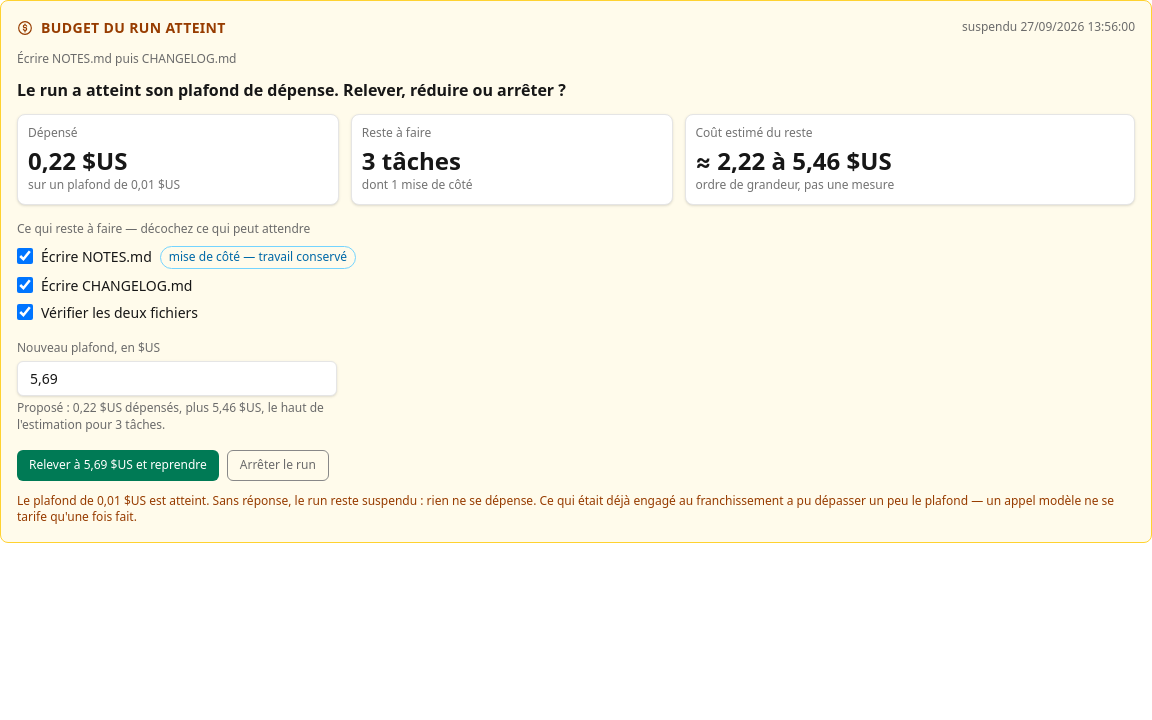
Test case: les trois gestes › tout décocher ne laisse que l'arrêt
The image size is (1152, 720).
Click the checkbox labelled "Écrire NOTES.md mise de côté — travail conservé": (25, 256) [17, 248, 33, 264]
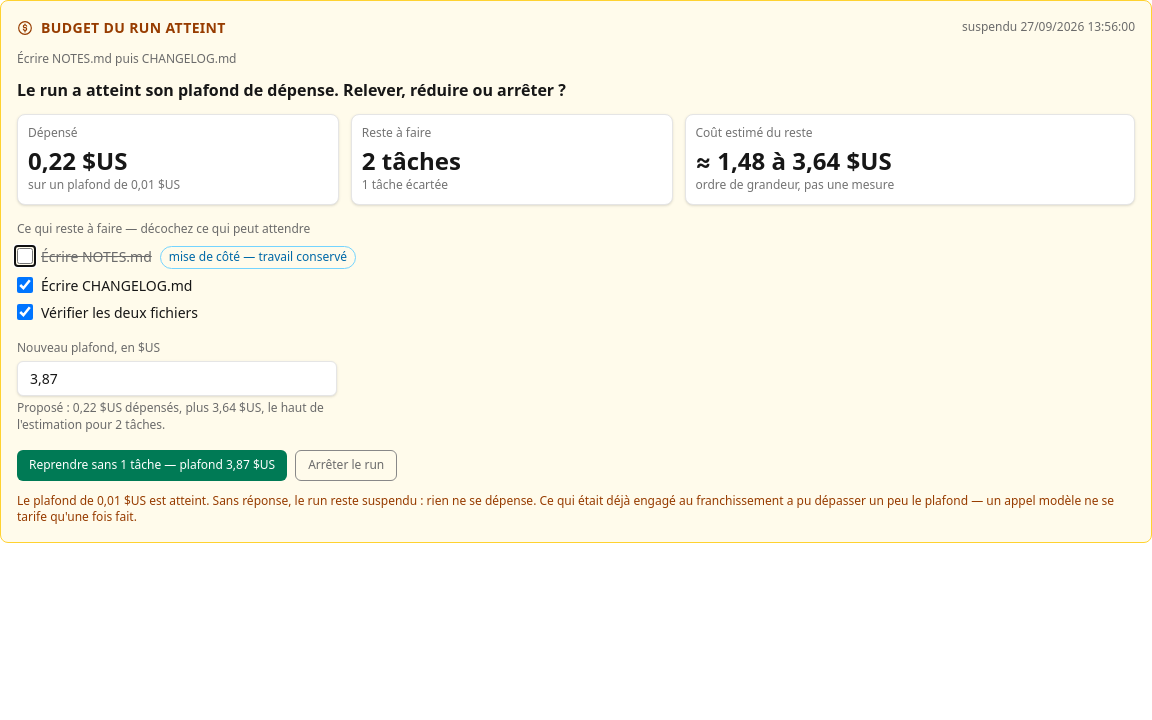
Click the checkbox labelled "Écrire CHANGELOG.md": (25, 285) [17, 277, 33, 293]
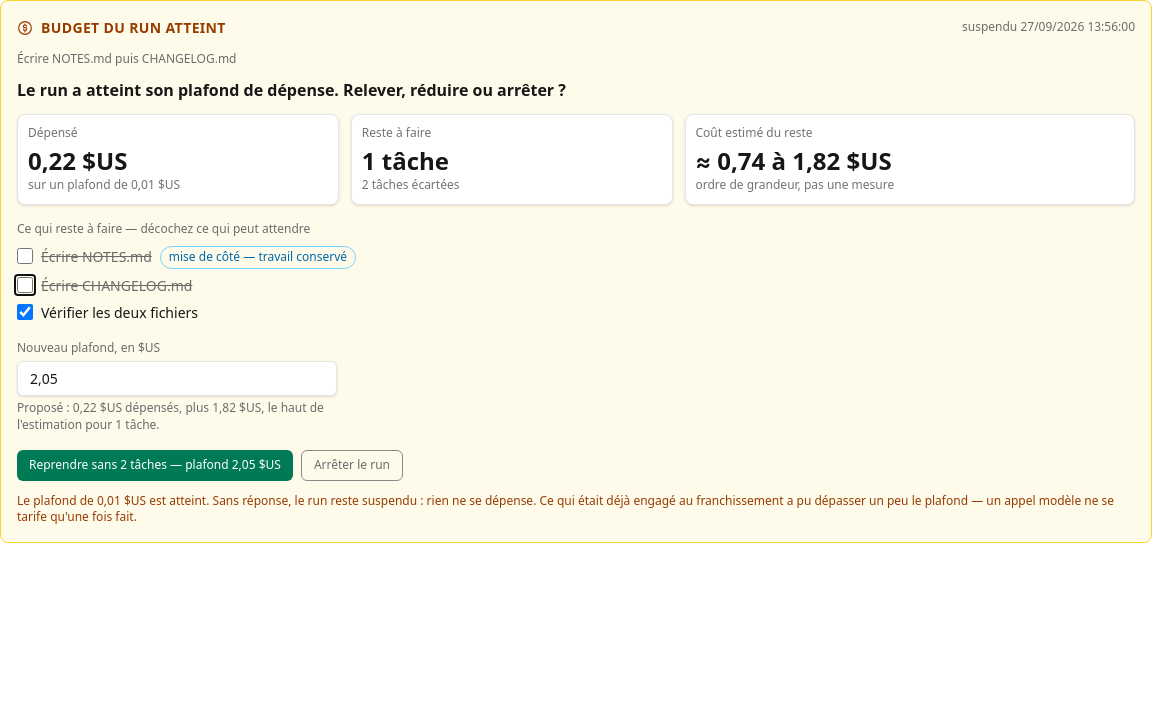
Click the checkbox labelled "Vérifier les deux fichiers": (25, 312) [17, 304, 33, 320]
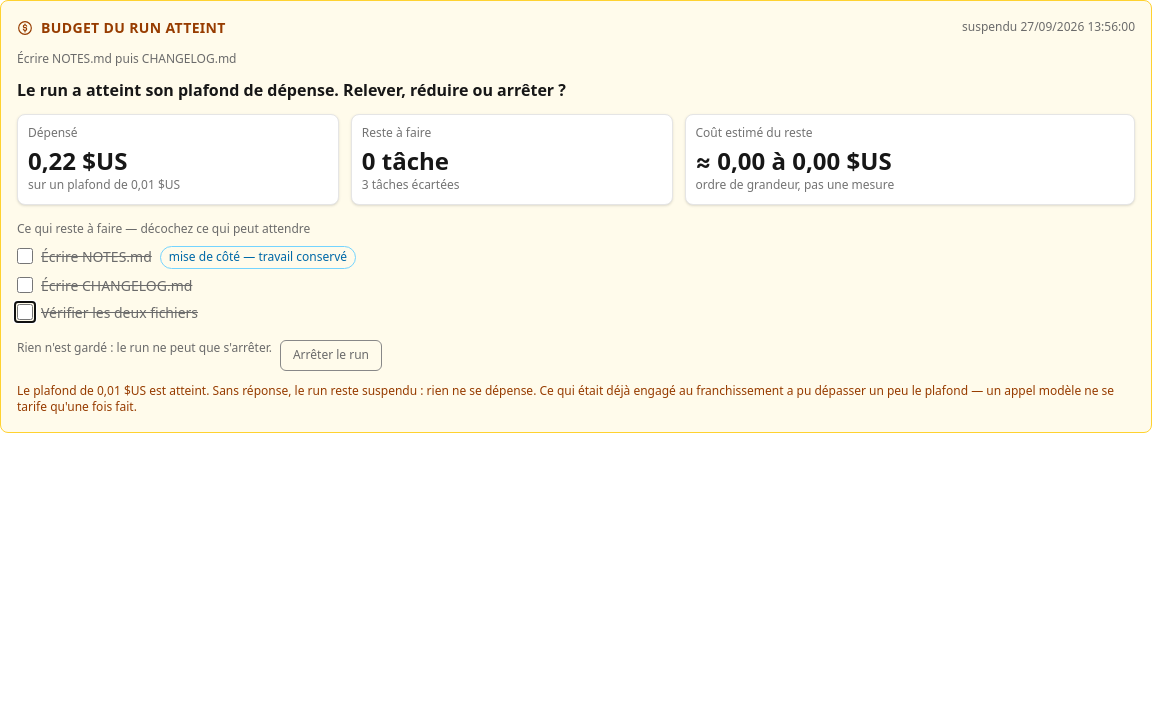
Expected: the button "Arrêter le run" is enabled, [280, 340, 382, 371]
Now the element "Budget du run atteint" shows "le run ne peut que s'arrêter", box [17, 339, 272, 356]
